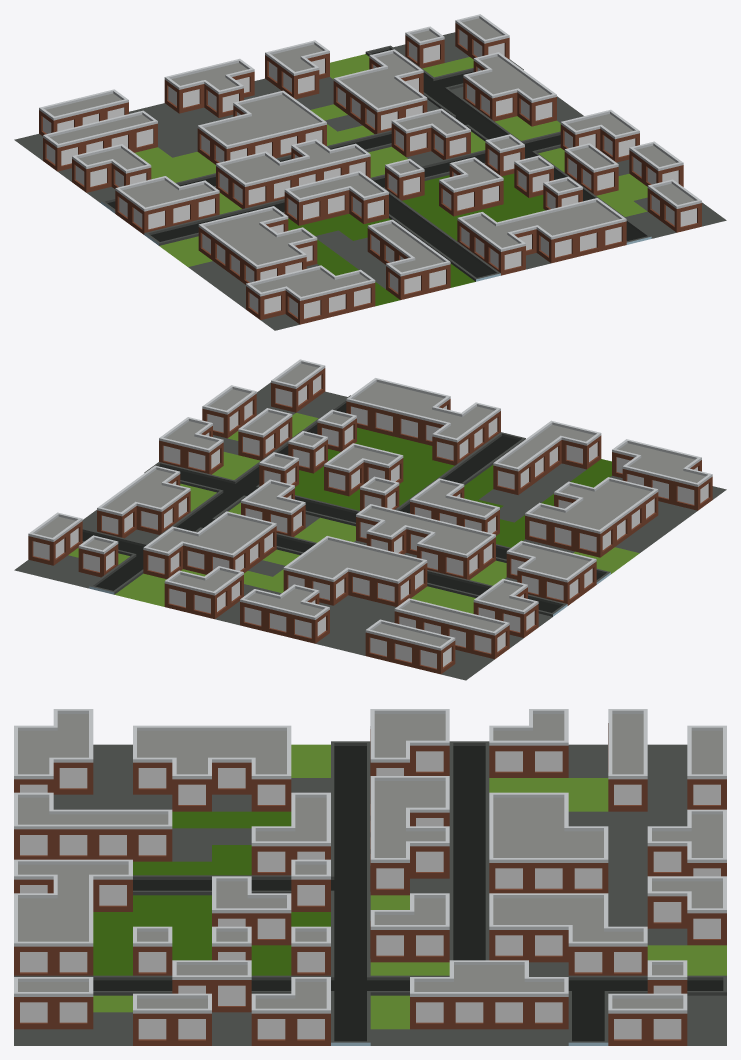
The model's file is town.fbx.
3 renders of one model, top to bottom at view 1: azimuth 30°, elevation 25°; view 2: azimuth 150°, elevation 25°; view 3: azimuth 270°, elevation 25°, orthographic. The views are drawn at different scales.
Visible parts, largest first — view 1: Plane; view 2: Plane; view 3: Plane.
Boxes of the visible parts, x1,y1,x2,y2 form: Plane: (14, 14, 726, 330); Plane: (14, 359, 726, 680); Plane: (14, 709, 726, 1045).
Size of the model in its own units: 2000 by 110 by 2000.
Materials: 2 (1 with a texture image).
